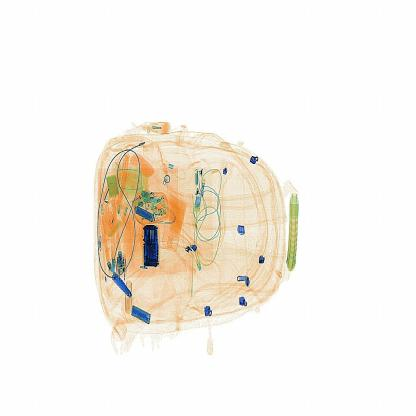scissors: (141, 220, 163, 274)
